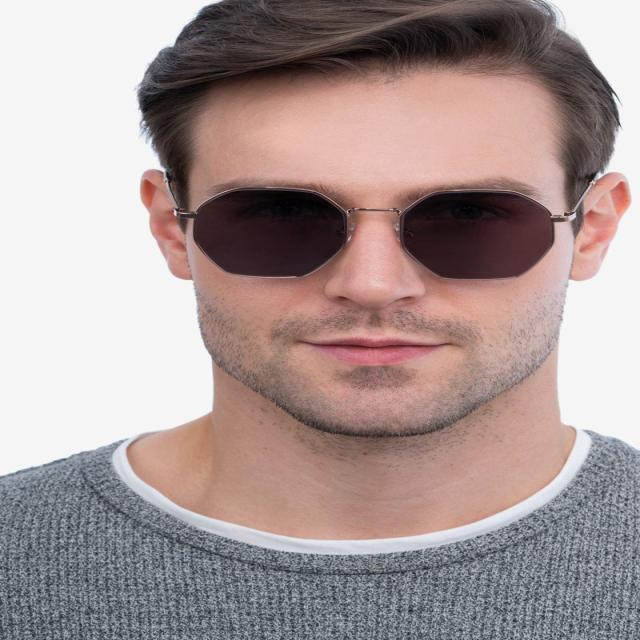2_gafas: (162, 188, 596, 282)
